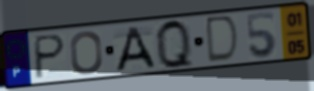5: (245, 9, 279, 61)
A: (113, 25, 158, 74)
D: (206, 13, 242, 65)
O: (69, 29, 105, 77)
P: (33, 33, 68, 81)
Q: (154, 17, 197, 71)
